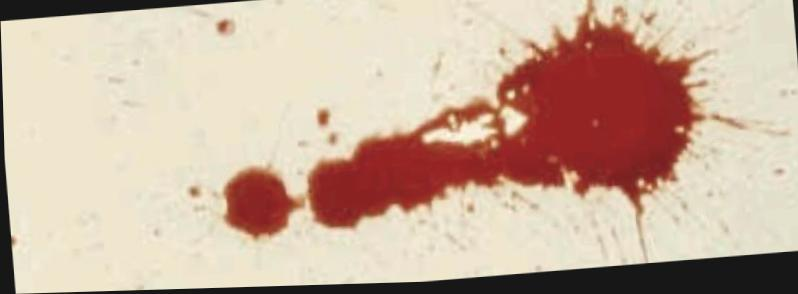Fire: (305, 0, 707, 230), (220, 165, 304, 239)
